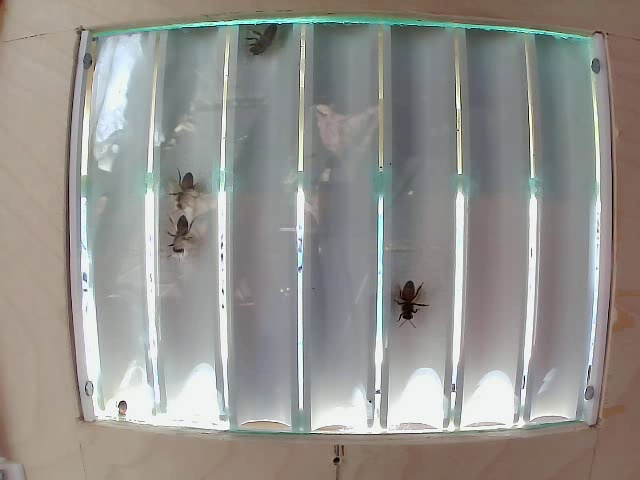bee: (383, 277, 430, 329), (172, 168, 217, 218), (156, 223, 196, 278), (252, 11, 288, 66)
